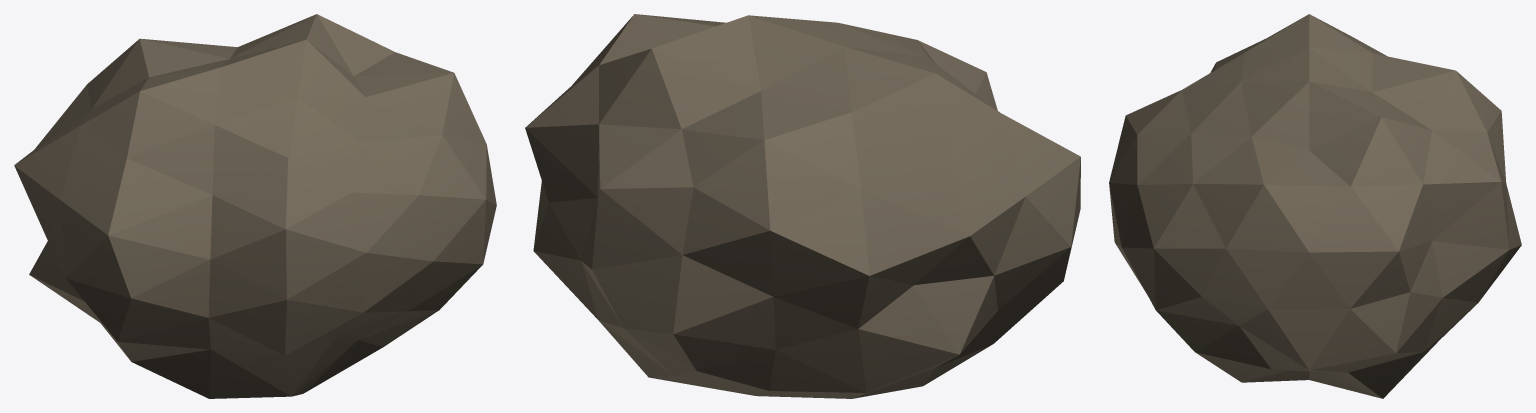
File: rock2.glb
The picture shows the model from 3 angles, left to right: view 1: azimuth 30°, elevation 25°; view 2: azimuth 150°, elevation 25°; view 3: azimuth 270°, elevation 25°; orthographic projection. The views are drawn at different scales.
Parts seen in each view (by area): view 1: rock; view 2: rock; view 3: rock.
Boxes of the visible parts, x1,y1,x2,y2 form: rock: [14, 14, 496, 398]; rock: [525, 14, 1080, 398]; rock: [1109, 14, 1521, 398].
Bounding box in the file's own units: 9424 × 6553 × 8111.
